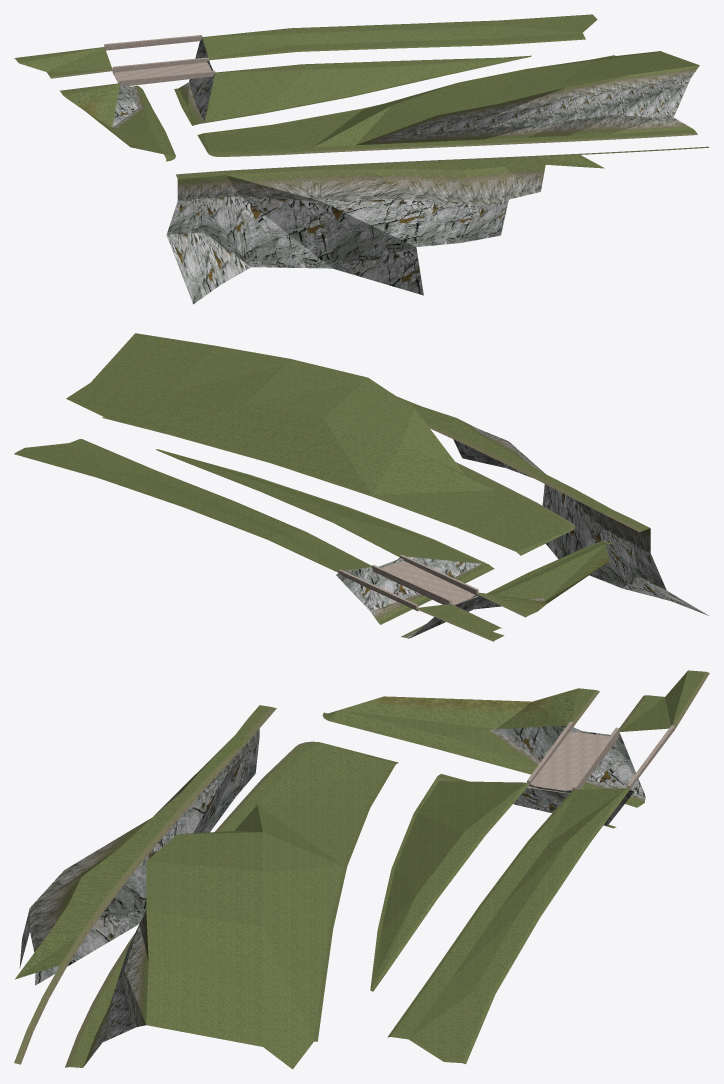
Rendered from cs_landbit_50b.obj.
3 views of the same model, one above another, from view 1: azimuth 30°, elevation 25°; view 2: azimuth 150°, elevation 25°; view 3: azimuth 270°, elevation 25° (orthographic). The views are drawn at different scales.
Visible parts, largest first — view 1: cs_landbit_50b; view 2: cs_landbit_50b; view 3: cs_landbit_50b.
Part boxes in pixels (left/top/right/bottom): cs_landbit_50b: left=14, top=14, right=709, bottom=304; cs_landbit_50b: left=14, top=333, right=708, bottom=641; cs_landbit_50b: left=14, top=670, right=709, bottom=1069.
Bounding box in the file's own units: 240 × 61.43 × 188.
6 materials, 6 textured.
